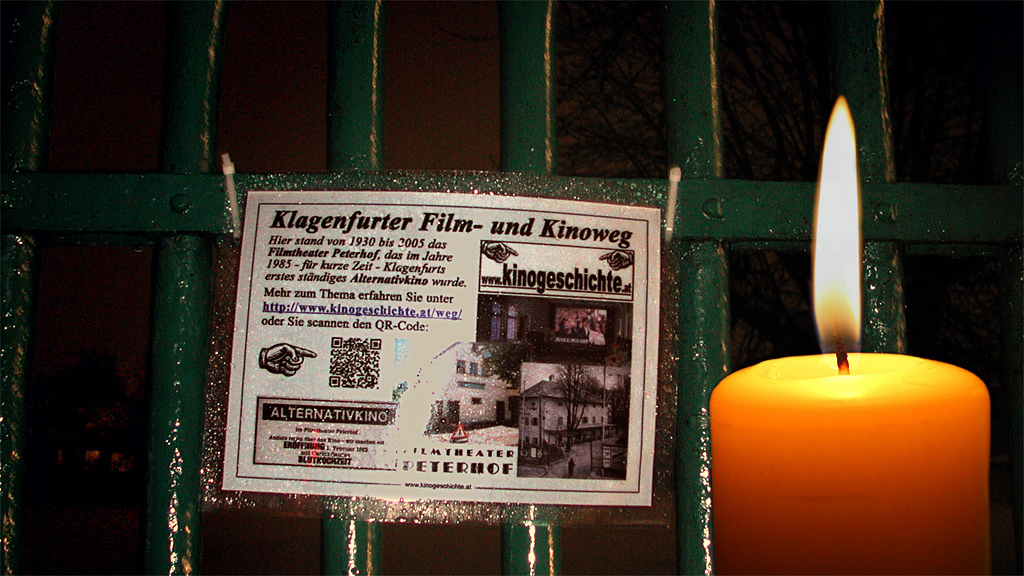QR-CODE: (329, 337, 381, 388)
